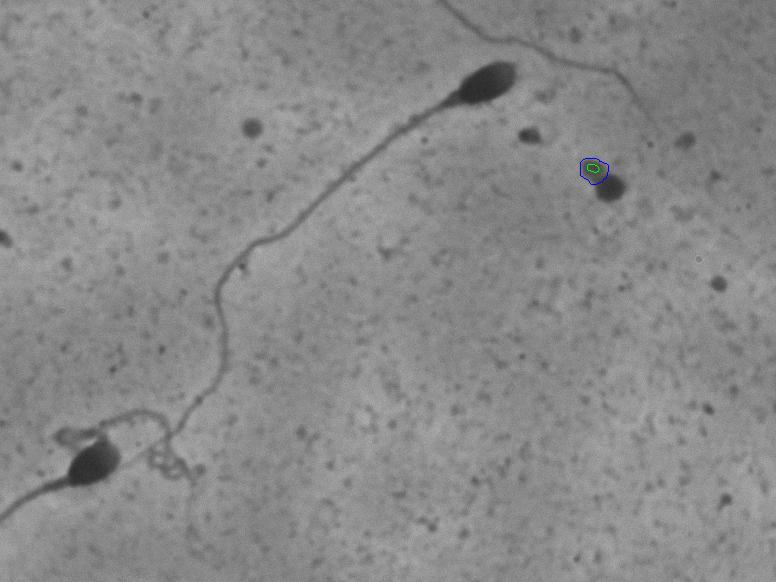Normal: (129, 49, 533, 472)
